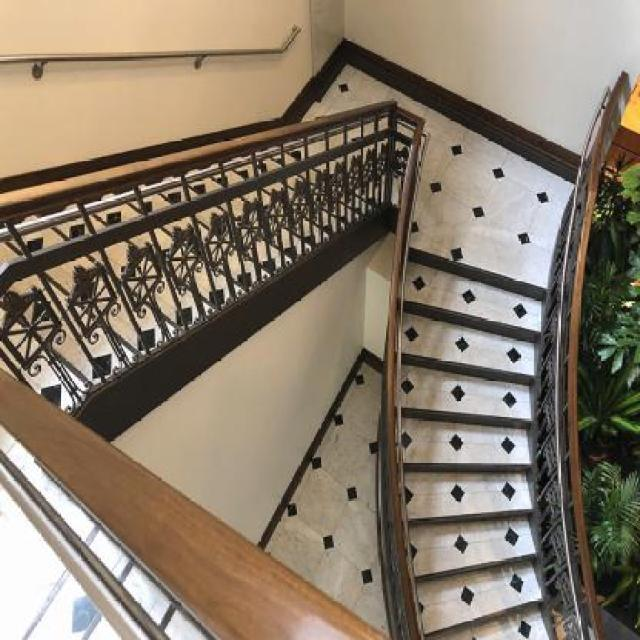stair: (362, 153, 613, 639)
